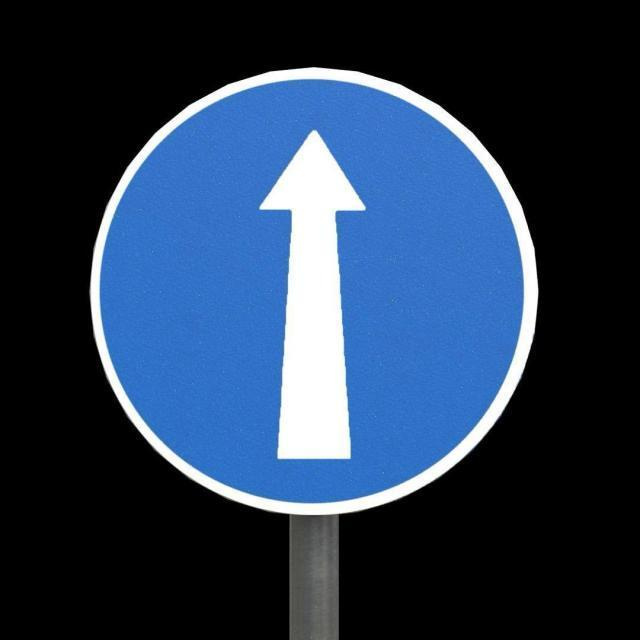compulsary ahead: (74, 53, 550, 524)
